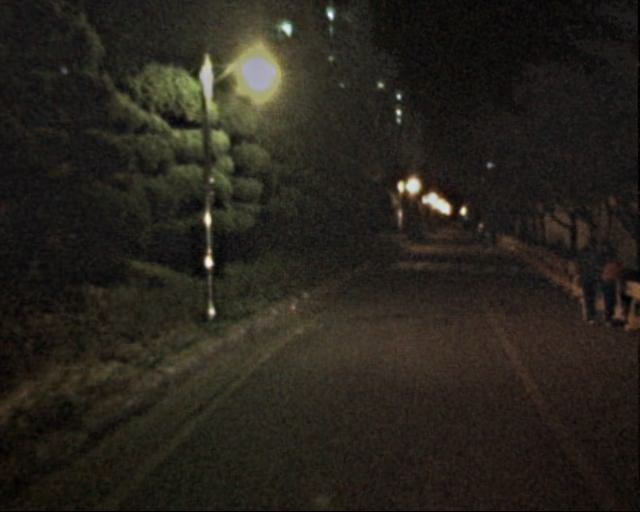person: (570, 237, 609, 331), (588, 240, 622, 324)
